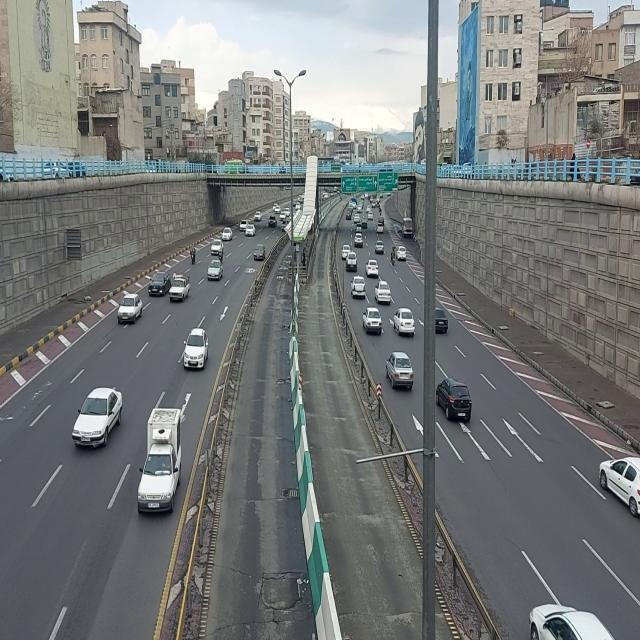Car: (528, 598, 622, 640), (595, 442, 640, 519), (72, 387, 124, 452), (435, 376, 475, 427), (383, 349, 415, 395), (184, 326, 212, 374), (116, 293, 144, 327), (392, 305, 418, 341), (363, 302, 383, 340), (148, 273, 170, 299), (350, 274, 368, 302), (435, 303, 449, 337), (373, 281, 393, 303), (207, 258, 224, 282), (365, 258, 379, 278), (345, 252, 359, 272), (401, 216, 413, 239), (253, 243, 267, 261), (211, 238, 224, 256), (396, 245, 407, 261), (374, 239, 384, 255), (354, 232, 364, 248), (245, 223, 256, 237), (239, 218, 249, 232), (268, 215, 278, 229), (355, 222, 364, 234), (254, 210, 262, 223), (280, 210, 288, 222), (354, 212, 362, 224), (377, 222, 385, 234), (342, 244, 348, 258), (274, 204, 281, 215), (345, 210, 351, 222), (367, 211, 373, 222), (378, 215, 385, 224), (295, 202, 301, 212)
Motorcycle: (189, 241, 197, 273), (390, 246, 396, 267)
Pickup: (135, 403, 183, 515), (169, 272, 191, 305)
